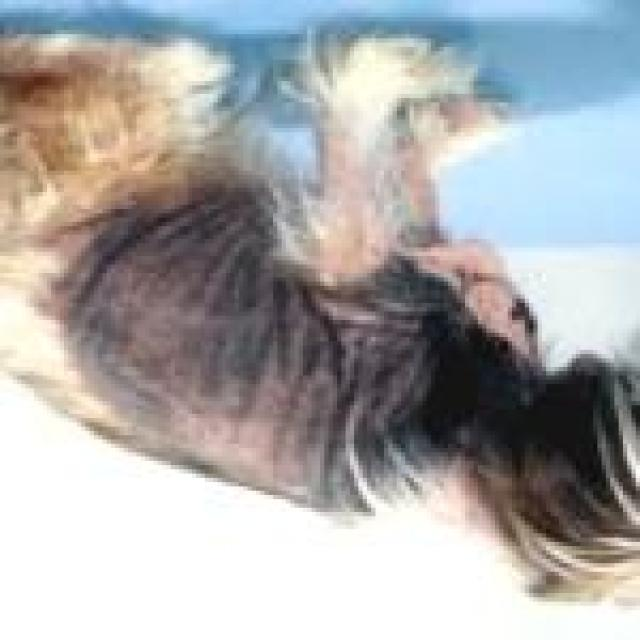fungal infection: (172, 396, 316, 479), (114, 262, 215, 350), (396, 158, 446, 238), (444, 98, 504, 141)
